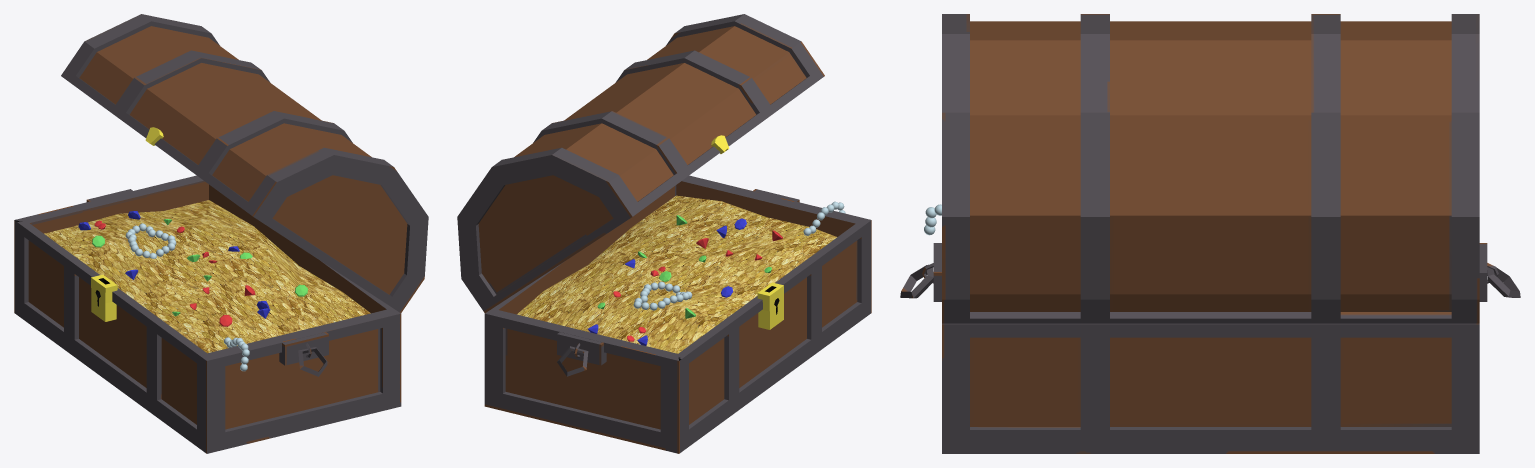
The model's file is chest_.fbx.
3 renders of one model, left to right at view 1: azimuth 30°, elevation 25°; view 2: azimuth 150°, elevation 25°; view 3: azimuth 270°, elevation 25°, orthographic. The views are drawn at different scales.
Parts seen in each view (by area): view 1: chest, goldFloor, Sphere.002; view 2: chest, goldFloor, Sphere.002; view 3: chest.
Part boxes in pixels (x1,y1,x2,y2): chest: (14, 14, 428, 453); goldFloor: (44, 200, 370, 353); Sphere.002: (139, 223, 176, 256); chest: (457, 14, 871, 453); goldFloor: (517, 195, 836, 353); Sphere.002: (633, 281, 680, 308); chest: (900, 14, 1520, 453).
Size of the model in its own units: 263 by 294 by 443.
Materials: 6 (2 with a texture image).
